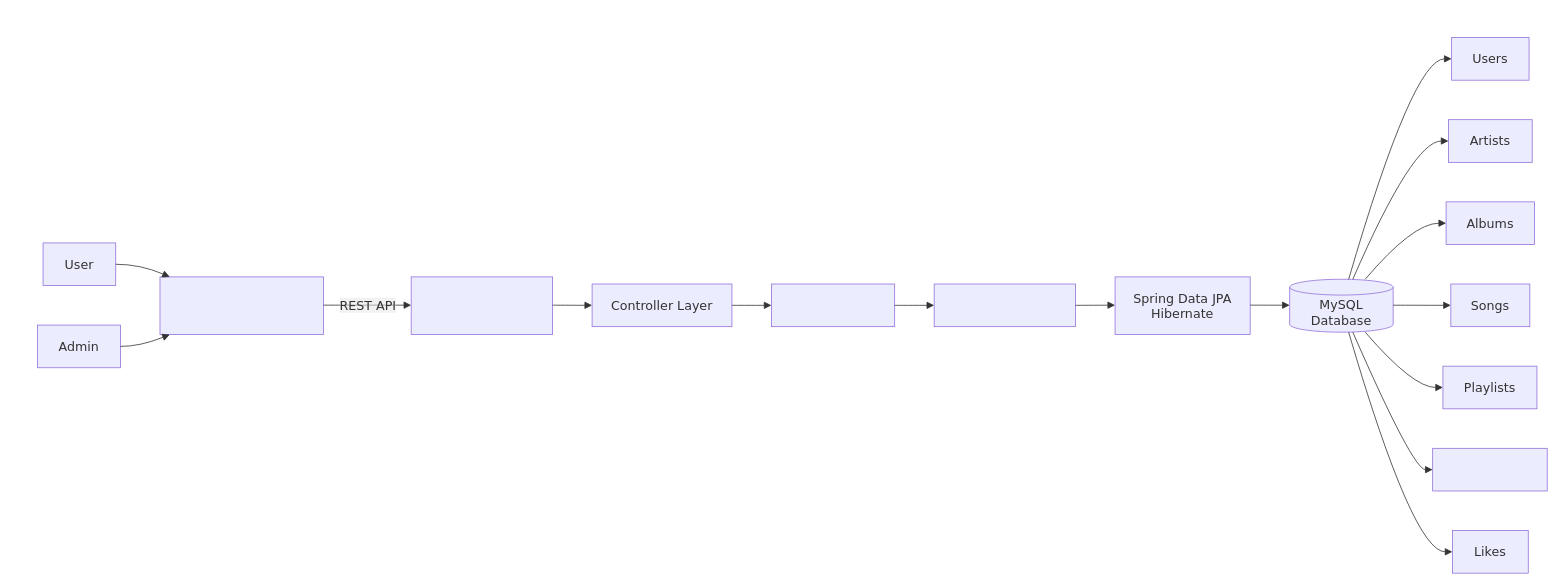
The diagram is 1561 pixels wide and 587 high, and some of its shapes have lost their labels. Each missing label, with the centre of its shape:
Frontend HTML CSS JavaScript: [241,305]
Java Spring Boot Backend: [481,305]
PlaylistSong: [1489,469]
Repository Layer: [1004,305]
Service Layer: [833,305]
